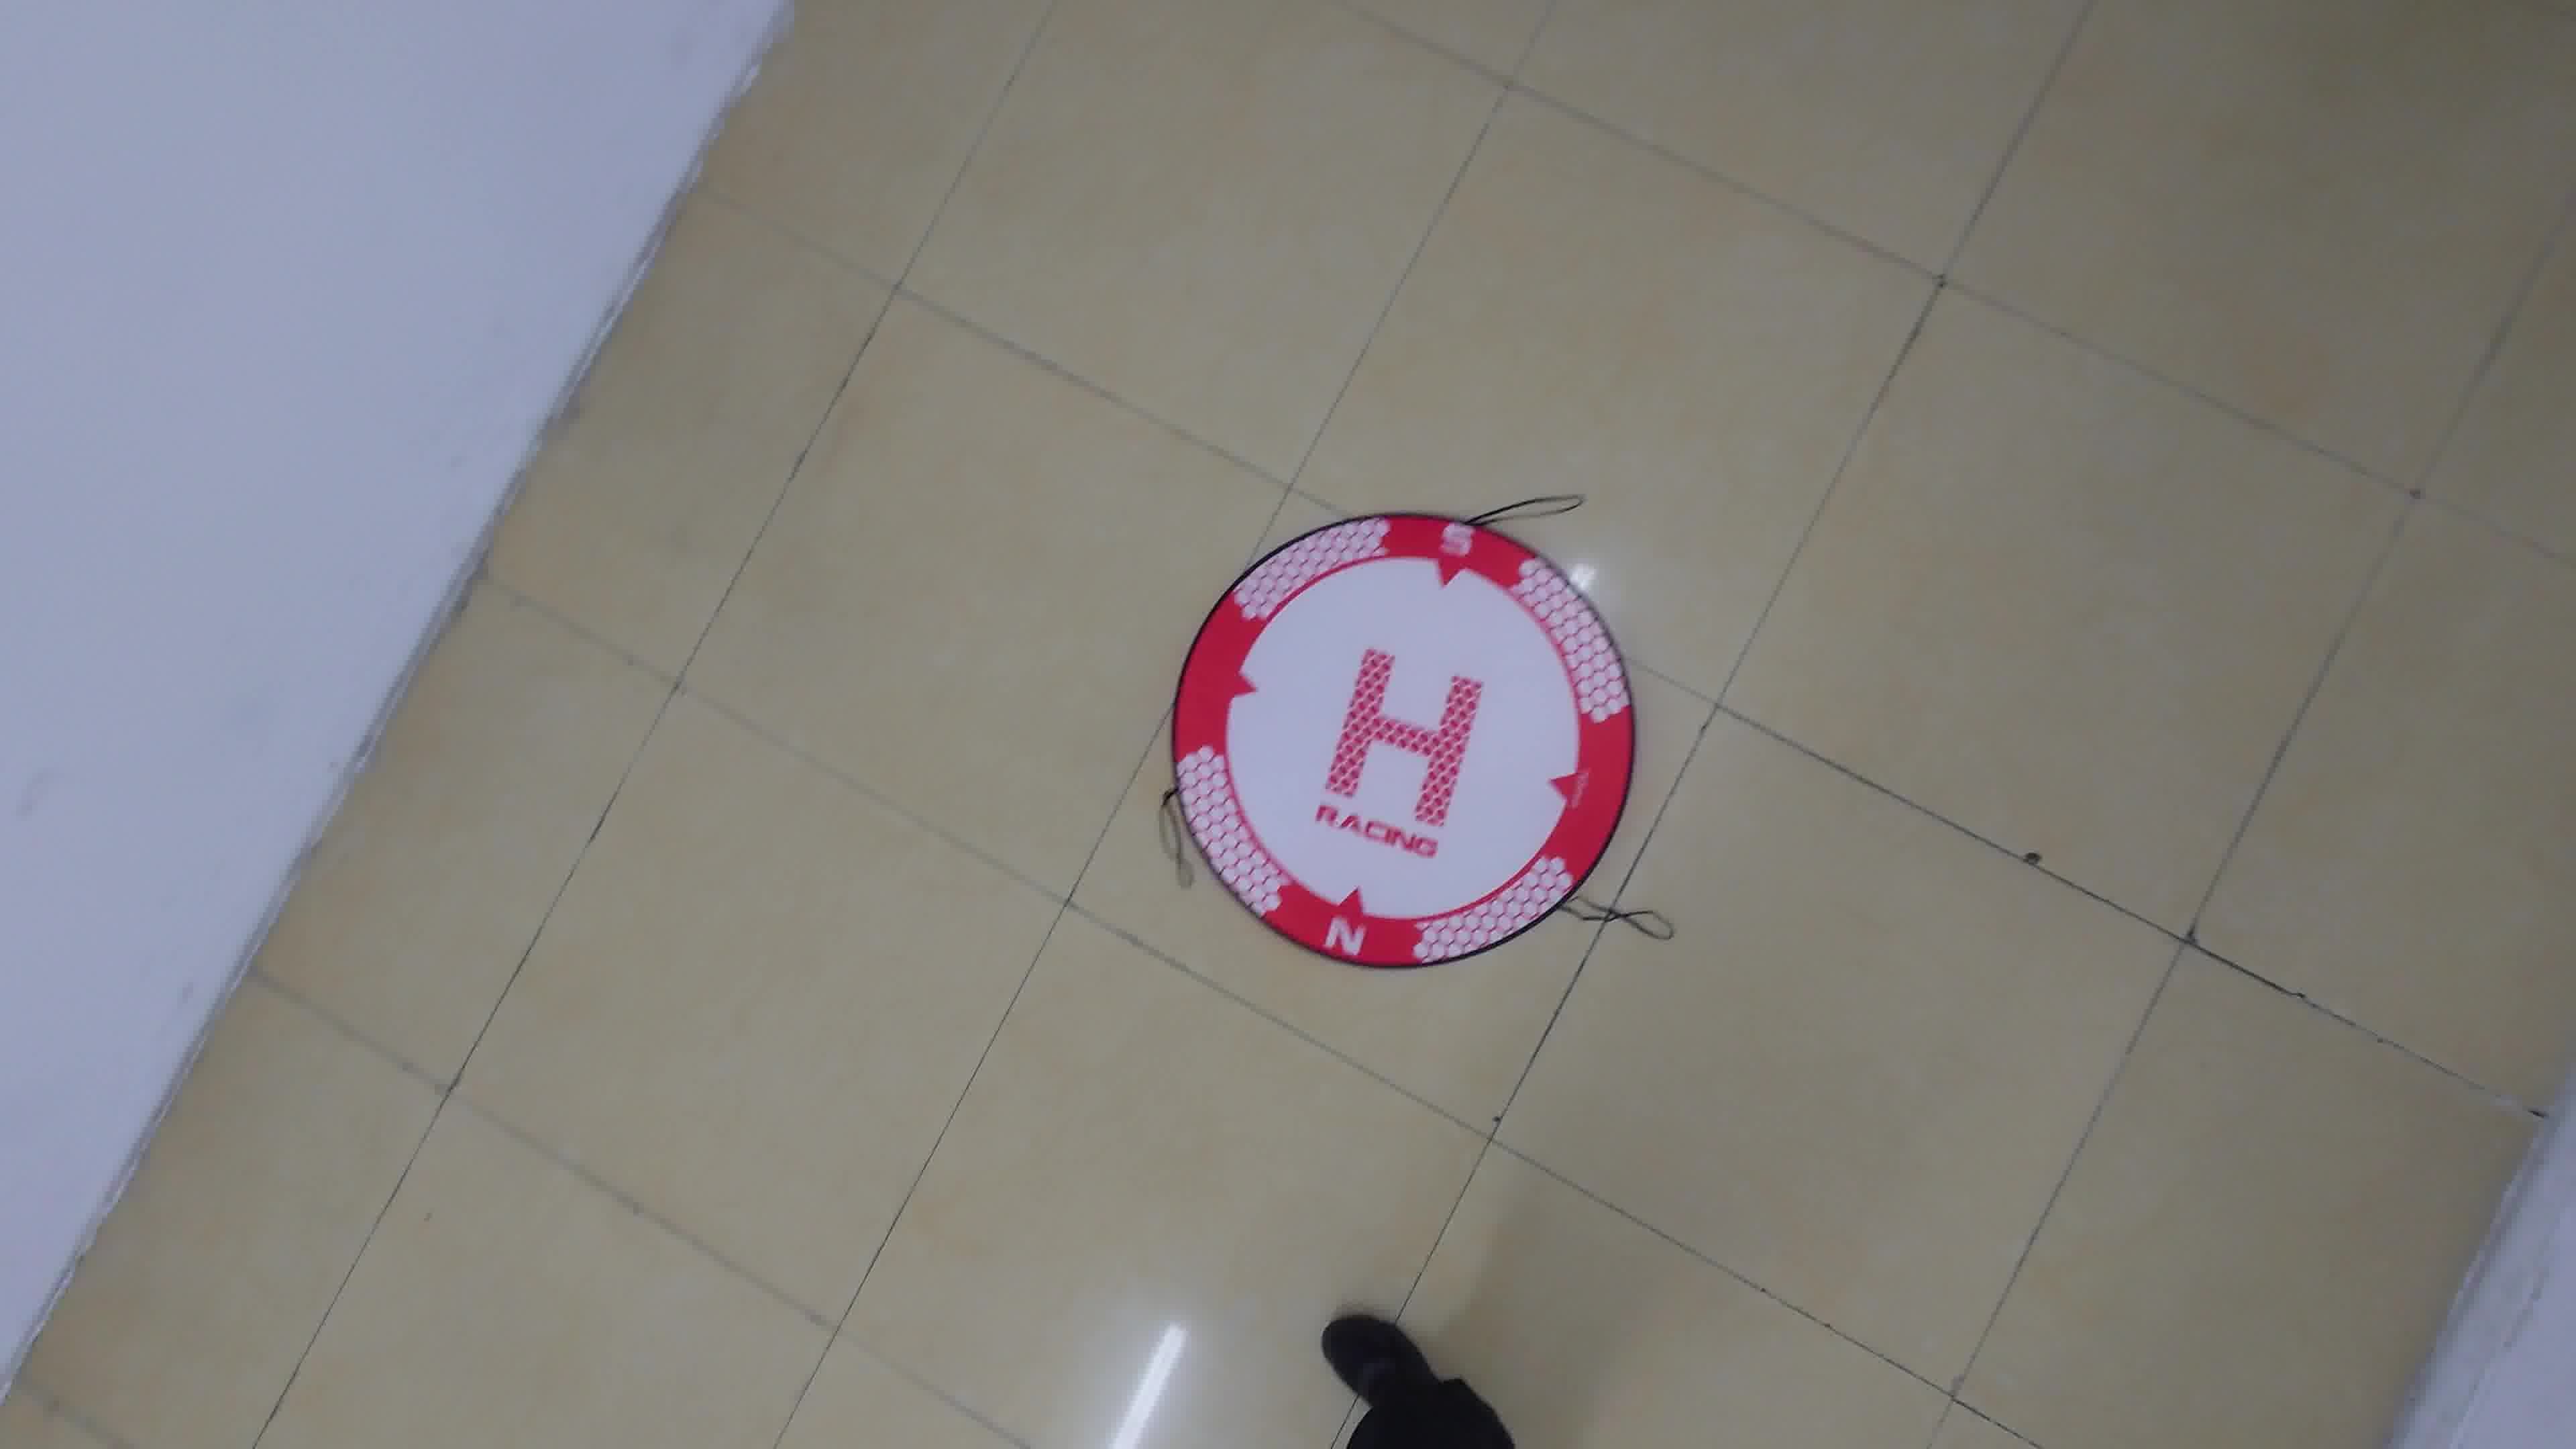H: (1325, 648, 1483, 828)
